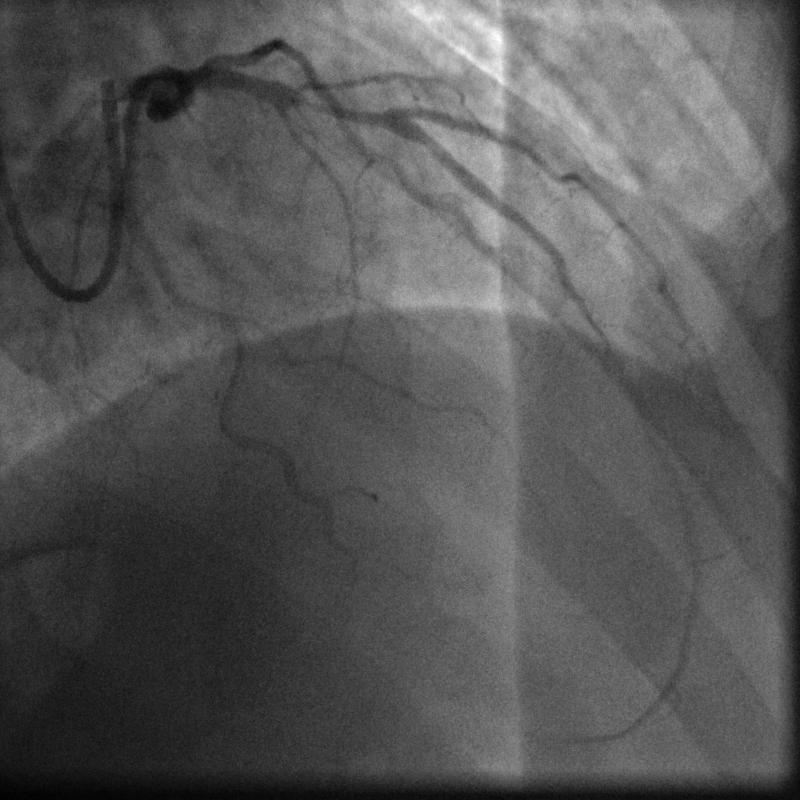Stenosis: (292, 87, 383, 130)
